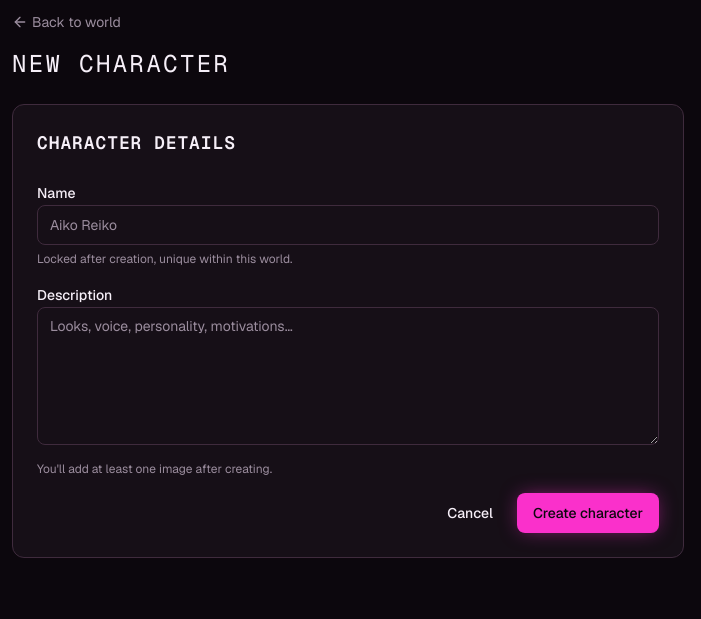
Scenario: NamedEntityForms › NewNamedEntityForm › validates form values and displays validation errors
Click the button "Create character": [588, 513] box [517,493,659,533]
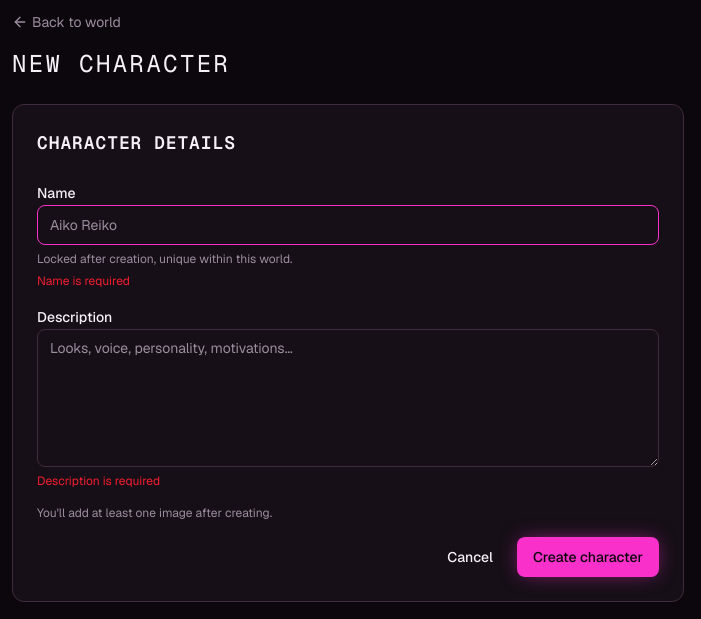
Check: the text "Name is required" is shown, box [37,273,130,289]
Check: the text "Description is required" is shown, box [37,473,160,489]
